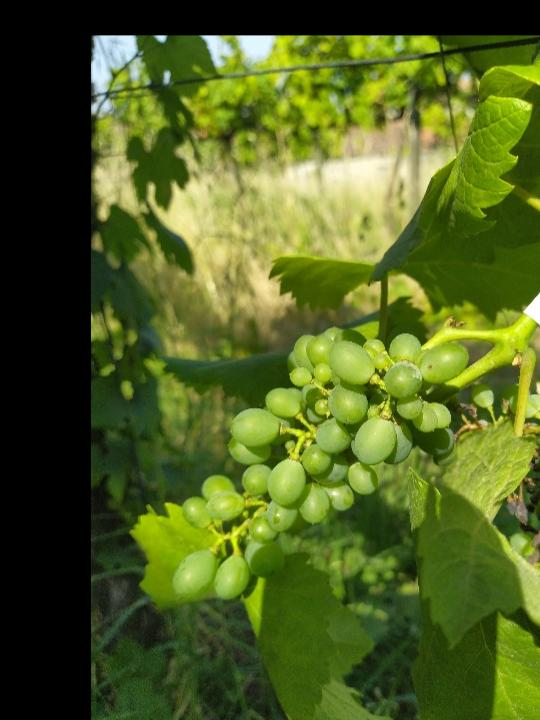grape: (166, 321, 496, 606)
